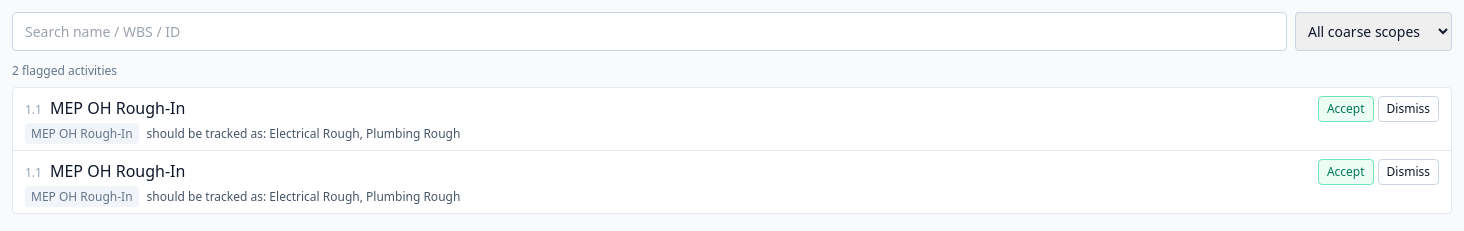
CompletenessIssuesTable › filters by coarse scope
Step 1. Type "nomatch" into the field with placeholder "Search name / WBS / ID" → (650, 32), box x1=12 y1=12 x2=1287 y2=51
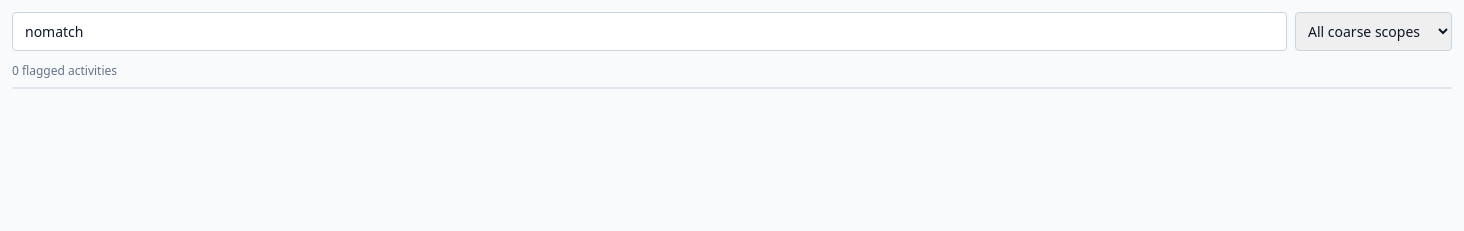
Check: the text "0 flagged activities" is shown, box x1=12 y1=62 x2=117 y2=79
